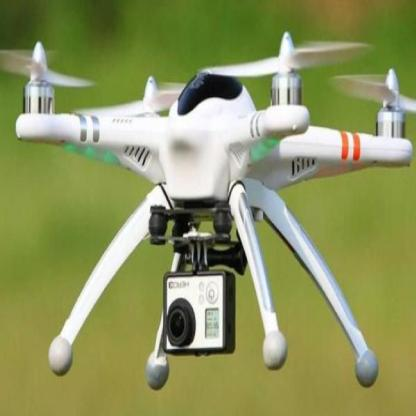drone: (11, 27, 416, 260)
